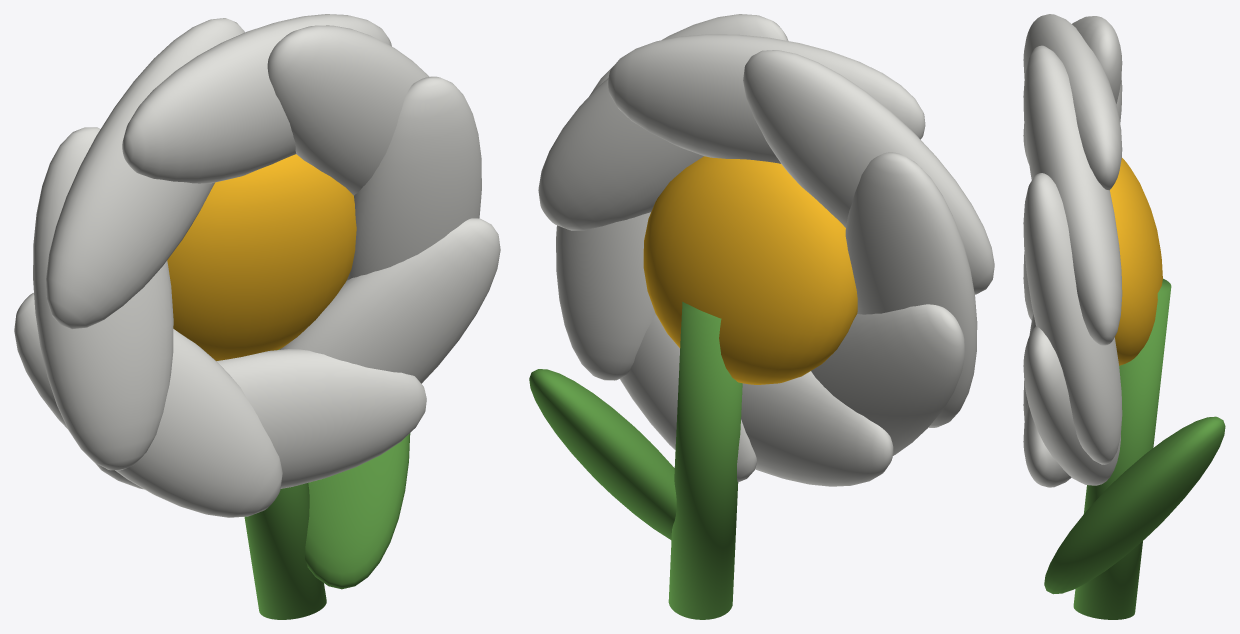
Rendered from head_acc_hat-f.glb.
3 views of the same model, side by side, from view 1: azimuth 30°, elevation 25°; view 2: azimuth 150°, elevation 25°; view 3: azimuth 270°, elevation 25° (orthographic). The views are drawn at different scales.
Parts seen in each view (by area): view 1: flower_core, flower_petal_3, flower_petal_4, flower_petal_2, flower_petal_5, flower_petal_7, flower_petal_6, flower_petal_0, flower_petal_1, flower_leaf, flower_stem; view 2: flower_core, flower_petal_3, flower_petal_2, flower_stem, flower_petal_4, flower_petal_1, flower_petal_5, flower_petal_0, flower_petal_6, flower_leaf, flower_petal_7; view 3: flower_petal_1, flower_petal_0, flower_leaf, flower_stem, flower_petal_2, flower_core, flower_petal_7, flower_petal_3, flower_petal_6, flower_petal_4.
Part boxes in pixels (x1=…): flower_core: x1=167, y1=154, x2=356, y2=360; flower_petal_3: x1=46, y1=18, x2=244, y2=329; flower_petal_4: x1=33, y1=127, x2=173, y2=470; flower_petal_2: x1=122, y1=14, x2=391, y2=183; flower_petal_5: x1=14, y1=293, x2=282, y2=517; flower_petal_7: x1=280, y1=218, x2=500, y2=383; flower_petal_6: x1=95, y1=349, x2=426, y2=489; flower_petal_0: x1=347, y1=76, x2=481, y2=280; flower_petal_1: x1=267, y1=25, x2=429, y2=195; flower_leaf: x1=305, y1=433, x2=410, y2=589; flower_stem: x1=244, y1=349, x2=326, y2=619; flower_core: x1=643, y1=156, x2=857, y2=384; flower_petal_3: x1=743, y1=50, x2=994, y2=294; flower_petal_2: x1=607, y1=34, x2=925, y2=163; flower_stem: x1=668, y1=301, x2=742, y2=619; flower_petal_4: x1=845, y1=152, x2=977, y2=427; flower_petal_1: x1=538, y1=14, x2=788, y2=230; flower_petal_5: x1=811, y1=304, x2=964, y2=455; flower_petal_0: x1=556, y1=66, x2=655, y2=380; flower_petal_6: x1=741, y1=371, x2=893, y2=486; flower_leaf: x1=529, y1=369, x2=676, y2=540; flower_petal_7: x1=620, y1=314, x2=756, y2=482; flower_petal_1: x1=1023, y1=45, x2=1122, y2=345; flower_petal_0: x1=1023, y1=173, x2=1122, y2=464; flower_leaf: x1=1044, y1=416, x2=1225, y2=594; flower_stem: x1=1073, y1=278, x2=1171, y2=619; flower_petal_2: x1=1023, y1=14, x2=1122, y2=190; flower_core: x1=1110, y1=158, x2=1162, y2=365; flower_petal_7: x1=1023, y1=326, x2=1120, y2=485; flower_petal_3: x1=1023, y1=16, x2=1122, y2=164; flower_petal_6: x1=1023, y1=403, x2=1071, y2=487; flower_petal_4: x1=1023, y1=77, x2=1122, y2=320.
Size of the model in its own units: 0.076 by 0.0984 by 0.0326.
